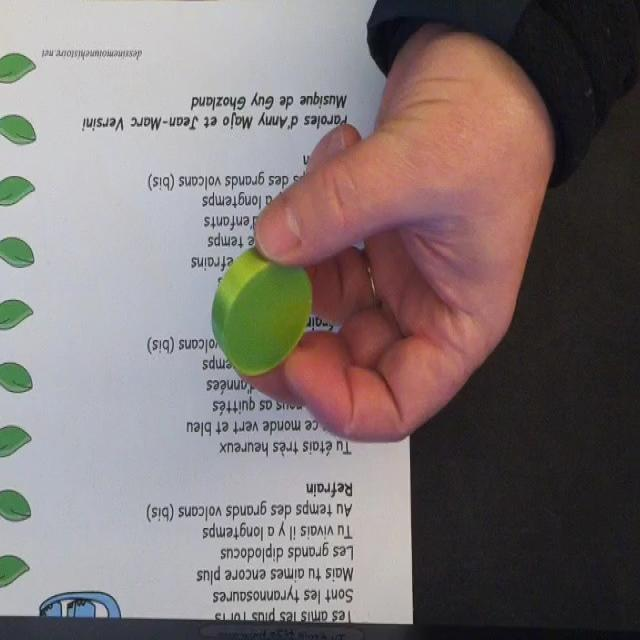round: (210, 241, 314, 376)
